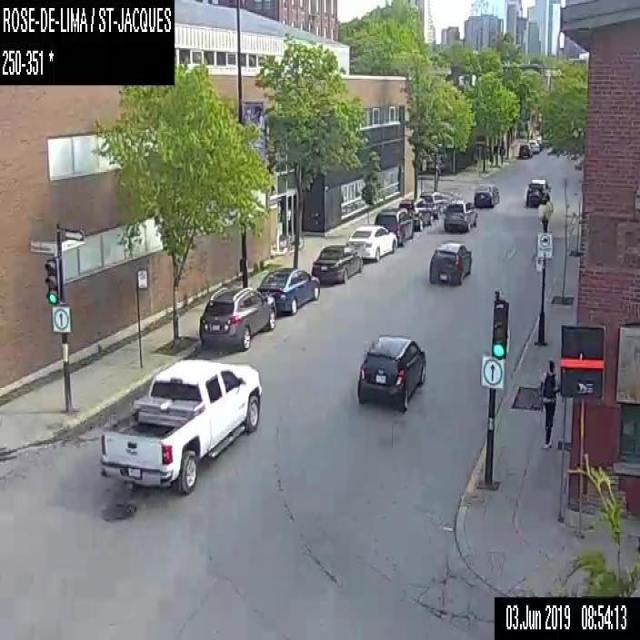pedestrian: (536, 357, 558, 448), (498, 140, 504, 164), (492, 143, 498, 164)
vehicle: (99, 354, 262, 494), (196, 282, 279, 350), (356, 330, 426, 410), (257, 268, 320, 311), (427, 239, 472, 284), (311, 245, 363, 282), (349, 224, 396, 261), (373, 205, 415, 245), (444, 199, 478, 230), (398, 197, 431, 227), (526, 175, 549, 205), (474, 181, 500, 205), (518, 144, 530, 158)
